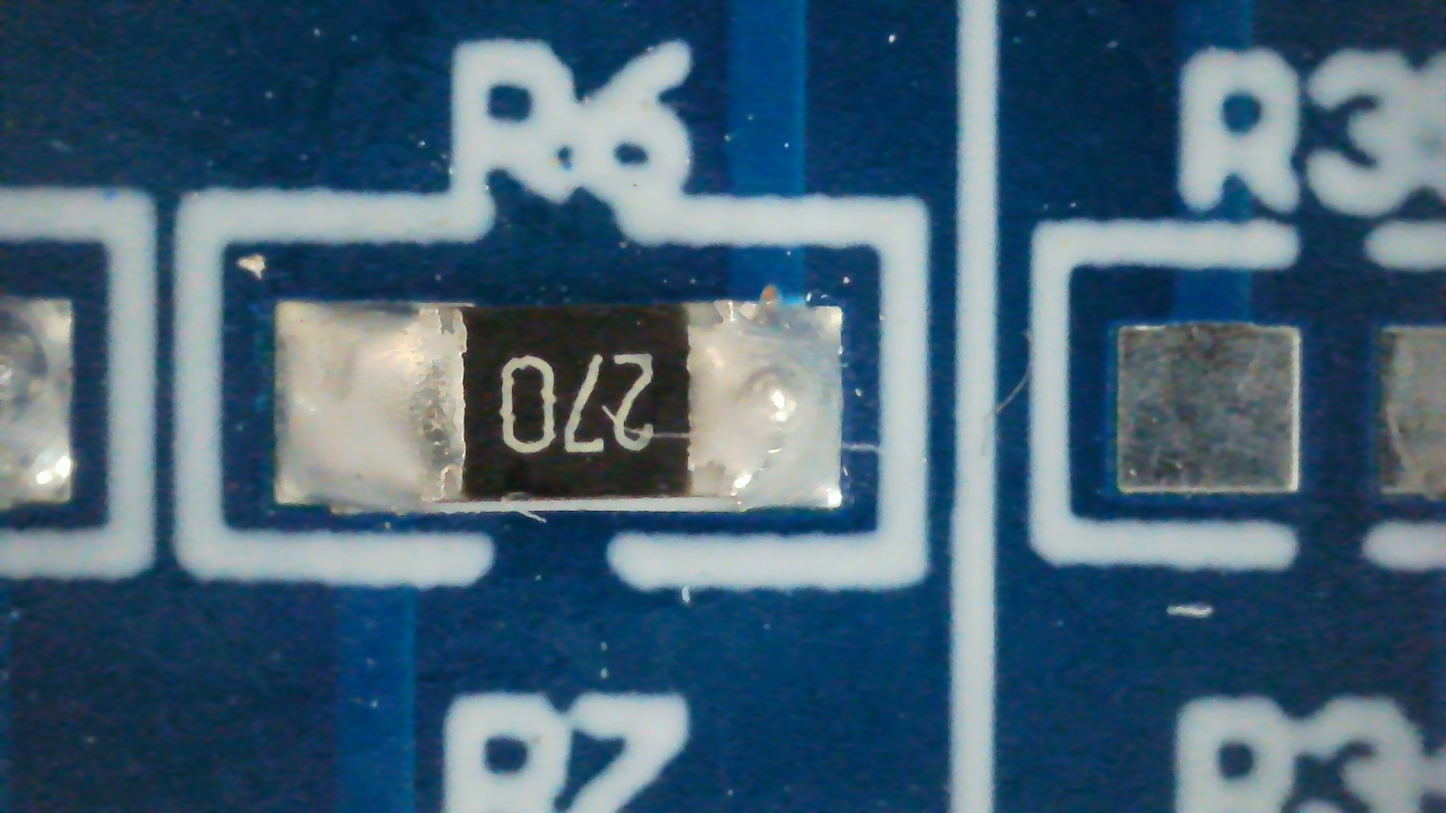OK: (277, 301, 844, 514)
